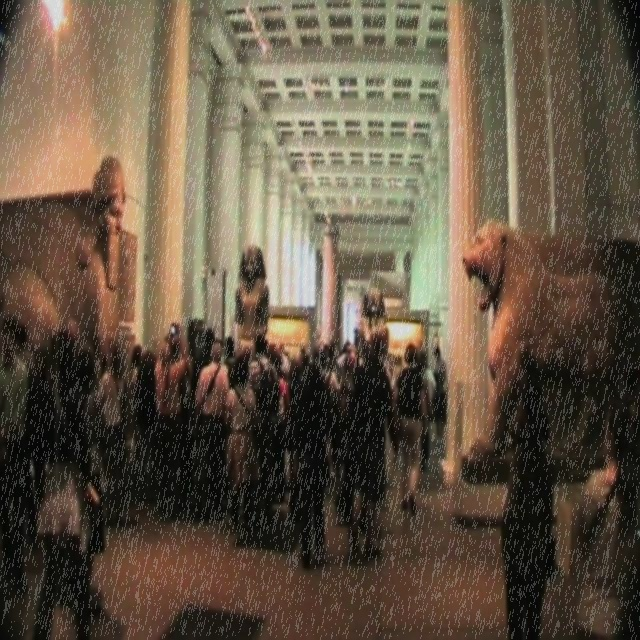pessoa: (191, 248, 392, 384), (282, 382, 394, 574), (36, 332, 94, 640), (573, 393, 640, 640), (498, 388, 560, 640), (67, 343, 107, 612), (220, 352, 263, 550), (0, 314, 29, 593), (153, 322, 190, 526), (244, 329, 282, 516), (192, 340, 230, 523), (393, 342, 429, 518), (97, 344, 132, 514), (134, 348, 158, 502), (40, 312, 58, 460), (519, 351, 543, 436), (99, 172, 125, 240), (417, 358, 432, 473), (432, 344, 446, 446), (16, 322, 37, 374), (422, 354, 436, 420), (128, 343, 144, 386), (98, 350, 107, 374)
